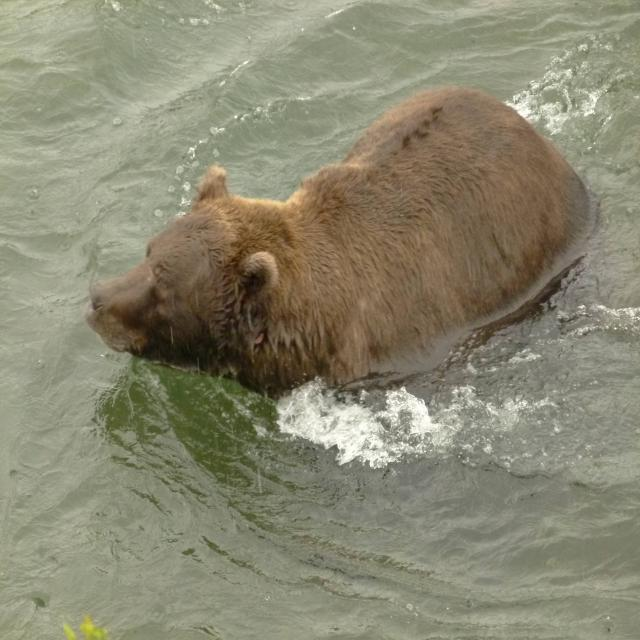bear face: (91, 88, 589, 378)
